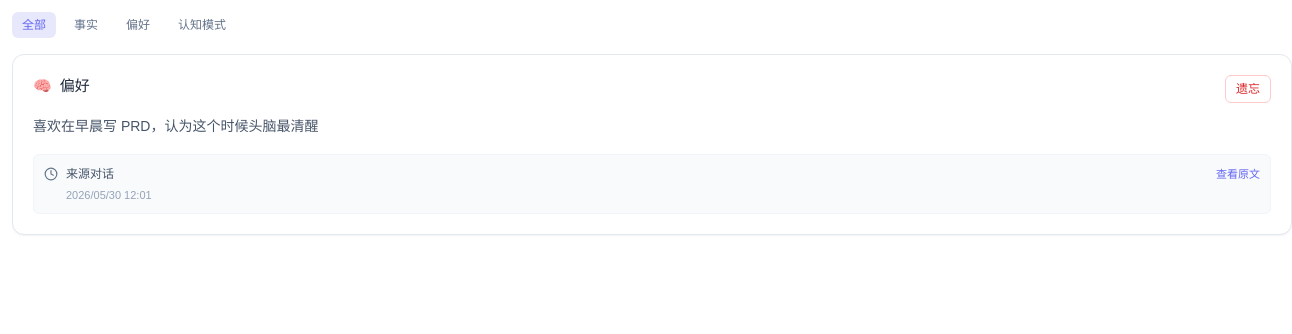
Test case: MemoryTab › 展开来源时懒加载并渲染原始来源消息
Expected: the button "遗忘" is enabled, [1225,75,1271,103]
Click the button "来源对话 查看原文 2026/05/30 12:01" at (90, 174), box [33,154,1271,214]
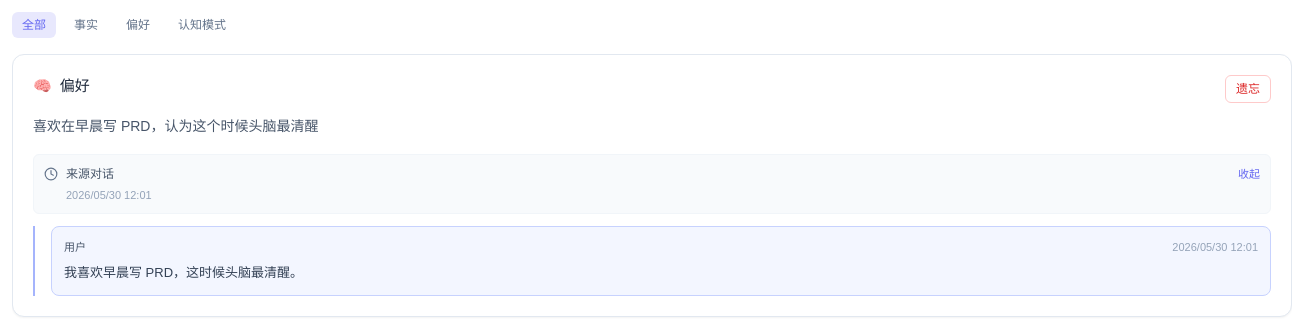
Expected: the text "我喜欢早晨写 PRD，这时候头脑最清醒。" is shown, [64,265,303,280]
Expected: the text "用户" is shown, [64,239,86,256]
Expected: the button "来源对话 收起 2026/05/30 12:01" is expanded, [33,154,1271,214]
